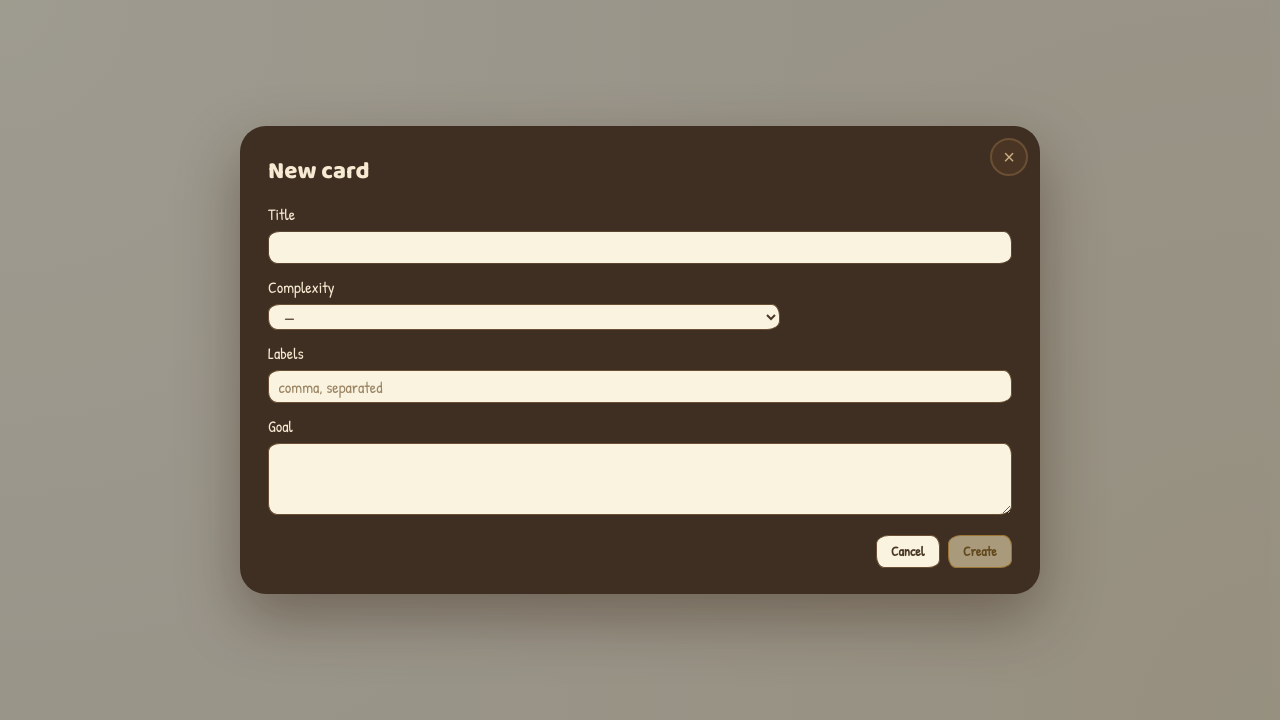
Test case: <NewCardDialog/> › shows a REAL inline error and keeps the dialog open (with the user's input intact) when createCard rejects — production behavior via mutate's rethrow:true
In the field labelled "Title": {"x": 640, "y": 248} [268,231,1012,264], type "Fresh"
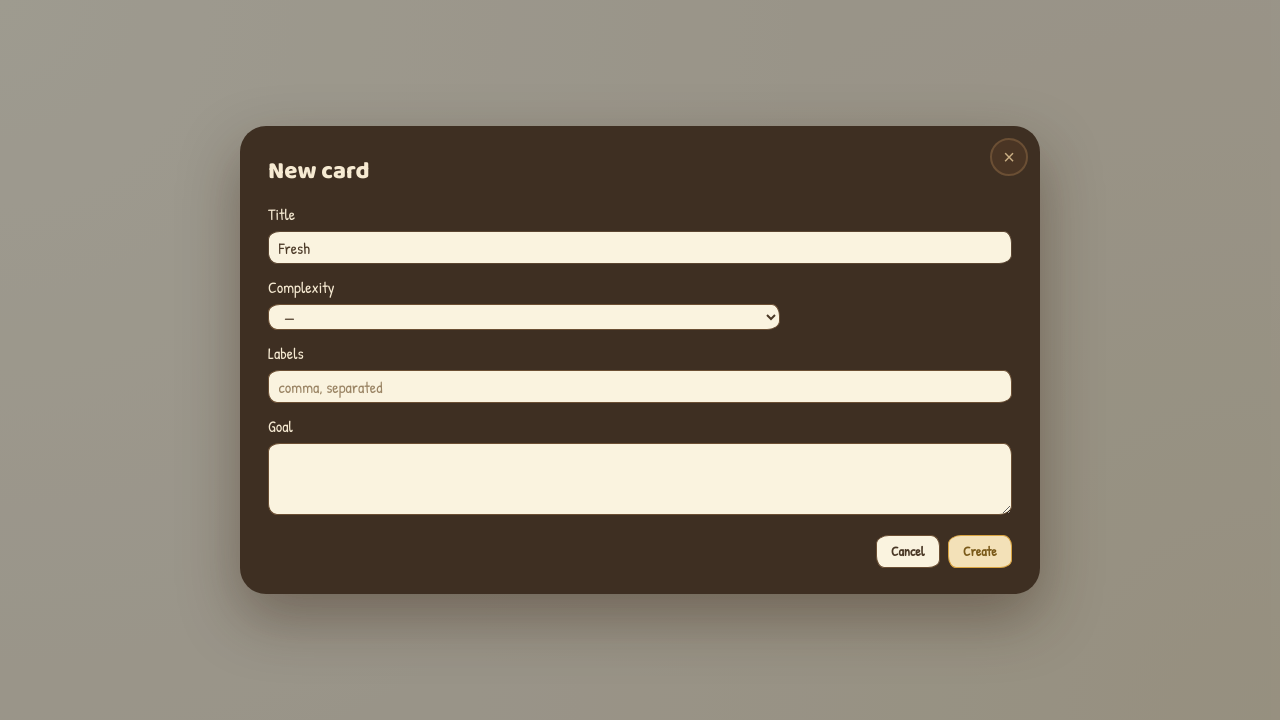
Click the button "Create": {"x": 980, "y": 552} [948,535,1012,568]
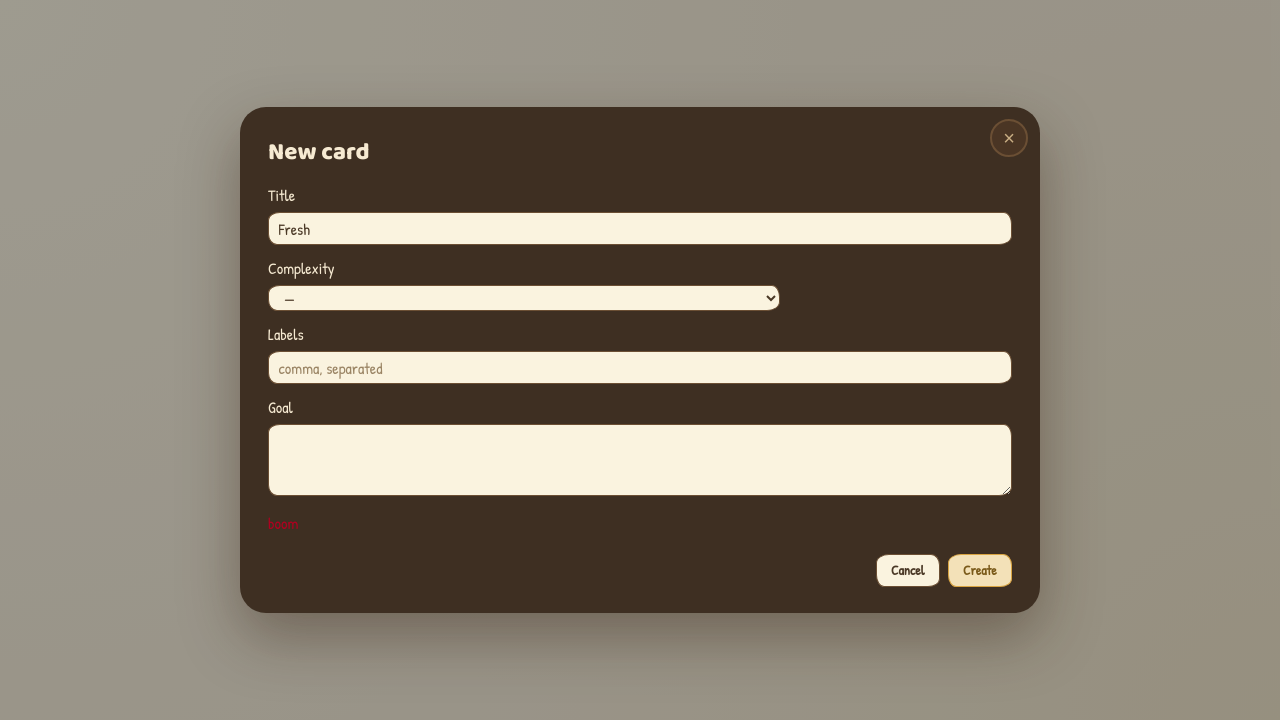
Expected: the dialog "× New card Title Complexity Labels Goal boom Cancel Create" is shown, [240,107,1040,613]
Now the message reads "boom", box [268,512,298,534]
